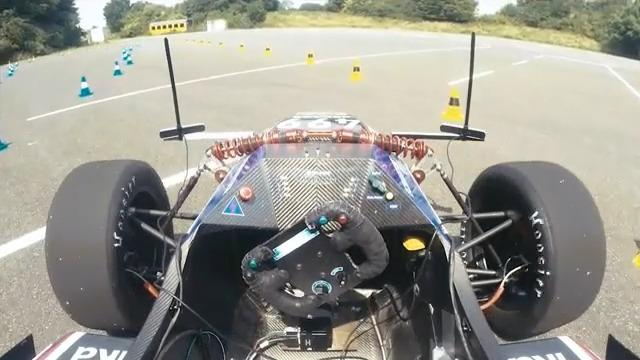blue_cone: (68, 70, 101, 98), (104, 56, 126, 81)
yellow_cone: (431, 78, 475, 124), (342, 60, 370, 84), (303, 44, 314, 83), (258, 40, 282, 57)
